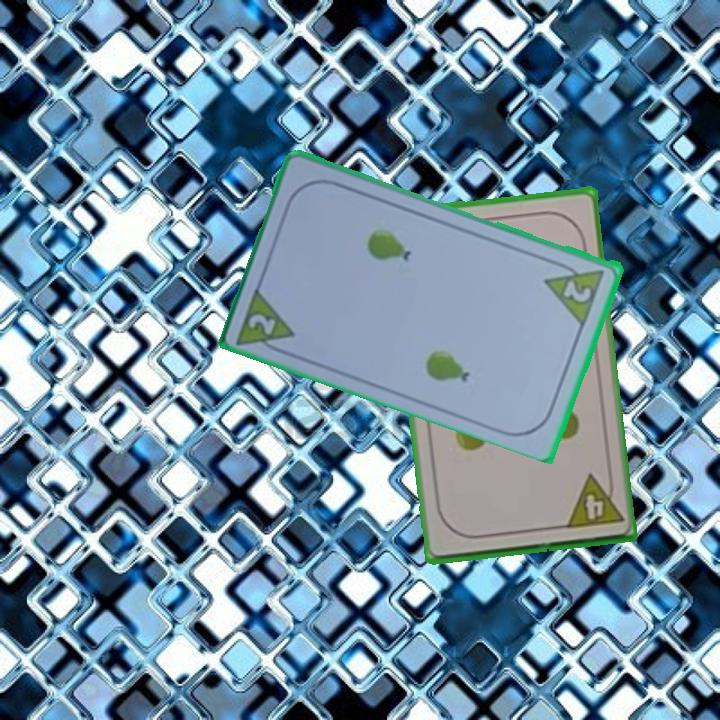2p: (541, 256, 608, 327), (244, 310, 280, 338)
4p: (561, 469, 626, 532)
